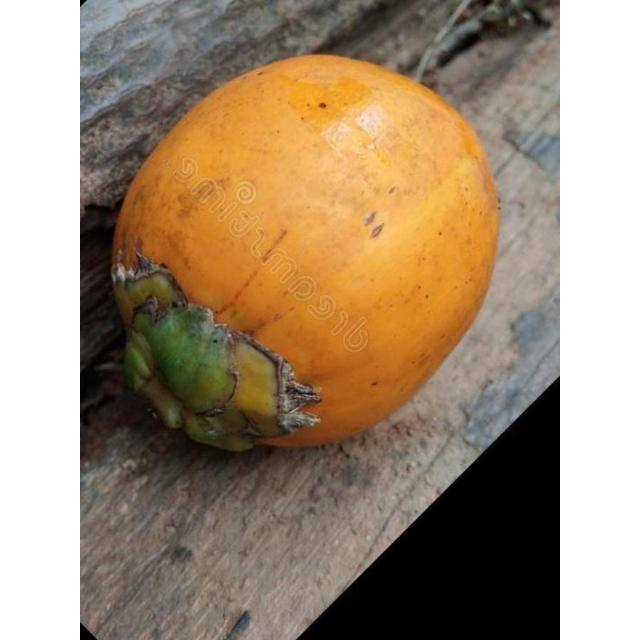good: (108, 54, 500, 454)
